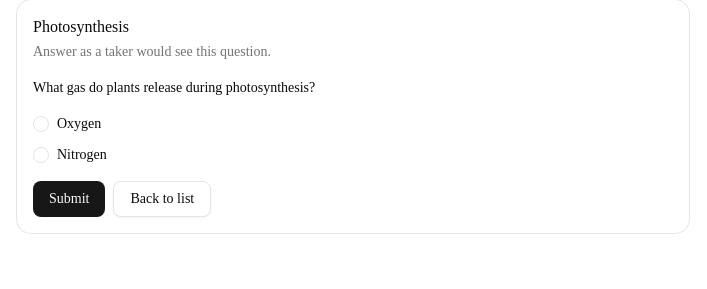
Scenario: McqPreview › successful correct attempt shows that the choice was correct
The width and height of the screenshot is (707, 289).
Expected: the text "Photosynthesis" is shown, [33,18,129,35]
Click the radio button named "oxygen": (41, 124) [33,116,49,132]
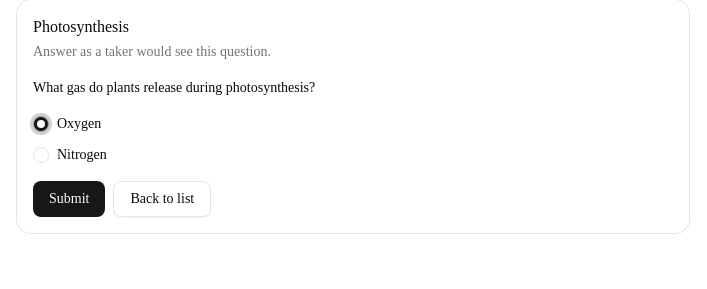
Click the button "Submit": (69, 198) [33,180,106,216]
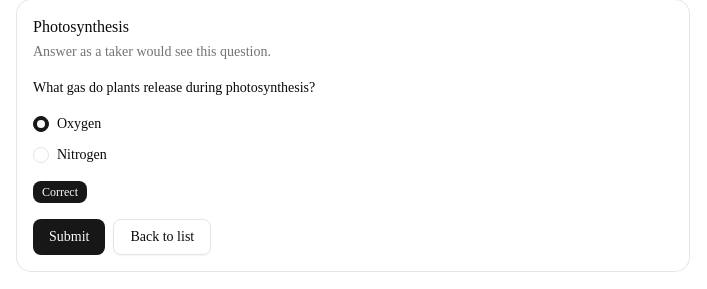
Expected: the text "Correct" is shown, [33,180,87,202]
